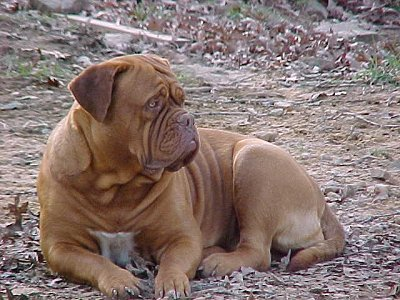dogue_de_bordeaux: (38, 53, 345, 300)
